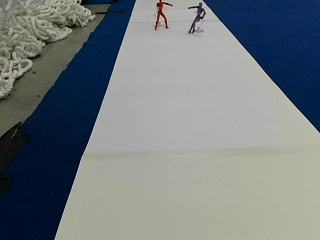pedestrian: (187, 2, 205, 32), (154, 0, 172, 29)
